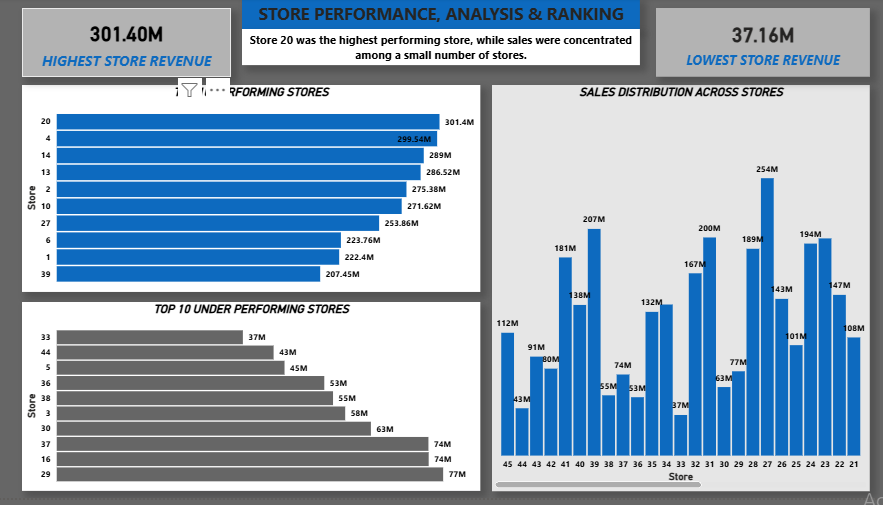

This screenshot's page, from the dashboard's own definition file:
{"tool":"powerbi","page":{"name":"Store Analysis","canvas":[1280,720],"ordinal":1},"visuals":[{"type":"clusteredBarChart","title":"TOP 10 PERFORMING STORES","fields":{"Y":["Walmart.TOTAL SALES"],"Category":["Walmart.Store"]},"box":[34.6,125.3,659.5,298.1],"z":0},{"type":"clusteredBarChart","title":"TOP 10 UNDER PERFORMING STORES","fields":{"Y":["Walmart.TOTAL SALES"],"Category":["Walmart.Store"]},"box":[34.6,437.8,659.5,272.2],"z":1000},{"type":"clusteredColumnChart","title":"SALES DISTRIBUTION ACROSS STORES","fields":{"Category":["Walmart.Store"],"Y":["Walmart.TOTAL SALES"]},"box":[711.4,125.3,544.3,584.6],"z":2000},{"type":"card","fields":{"Values":["Correlation_Table.Best Store sales"]},"box":[34.6,14.4,301,99.4],"z":4000},{"type":"card","fields":{"Values":["Correlation_Table.WORST STORE SALES"]},"box":[947.5,14.4,308.2,99.4],"z":5000},{"type":"textbox","box":[351.4,0,573.1,44.6],"z":6000},{"type":"textbox","box":[351.4,44.6,573.1,51.8],"z":7000}]}

Visuals, with their boxes in screenshot pixels (x1, y1, x2, y2), scaled from the page's 1280x720 canvas onto the 883x505 screenshot:
"TOP 10 PERFORMING STORES" clusteredBarChart: 24/88/479/297
"TOP 10 UNDER PERFORMING STORES" clusteredBarChart: 24/307/479/498
"SALES DISTRIBUTION ACROSS STORES" clusteredColumnChart: 491/88/866/498
card - Correlation_Table.Best Store sales: 24/10/232/80
card - Correlation_Table.WORST STORE SALES: 654/10/866/80
textbox: 242/0/638/31
textbox: 242/31/638/68
